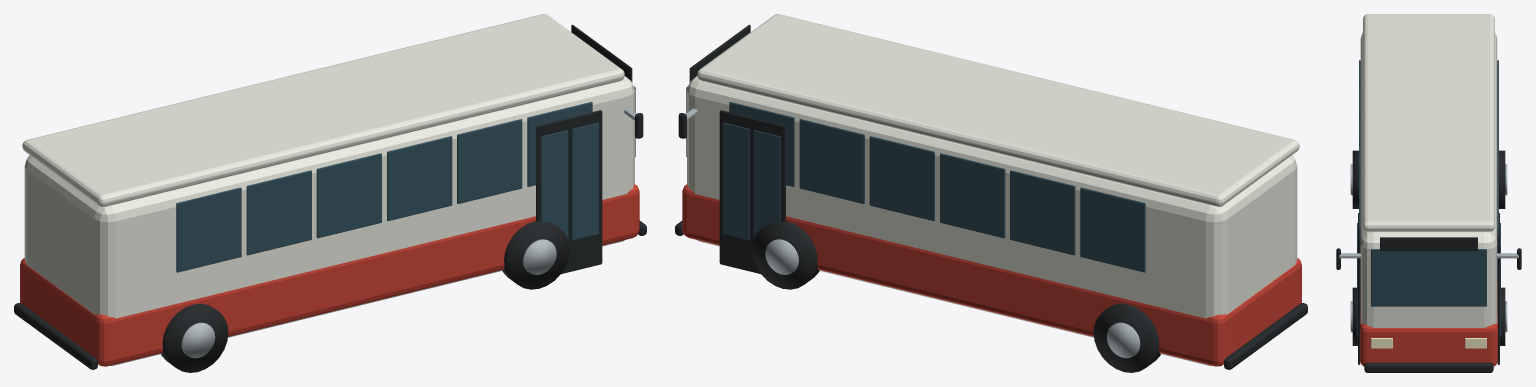
The model's file is bus_candidate.glb.
The picture shows the model from 3 angles, left to right: view 1: azimuth 30°, elevation 25°; view 2: azimuth 150°, elevation 25°; view 3: azimuth 270°, elevation 25°; orthographic projection. The views are drawn at different scales.
Visible parts, largest first — view 1: roof, bus_body, red_lower_body, window_0, window_2, window_3, window_1, window_4, door_frame, door_glass.001, wheel, wheel.001 (+6 smaller); view 2: roof, bus_body, red_lower_body, window_0.001, window_2.001, window_3.001, window_1.001, window_4.001, door_frame.001, door_glass.003, wheel.002, wheel.003 (+6 smaller); view 3: roof, bus_body, front_windshield, red_lower_body, bumper.001, destination_display, wheel, wheel.002, door_frame, door_frame.001, wheel.001, wheel.003 (+2 smaller).
Boxes of the visible parts, x1=… form: roof: x1=22, y1=14, x2=624, y2=206; bus_body: x1=24, y1=76, x2=634, y2=365; red_lower_body: x1=20, y1=184, x2=639, y2=366; window_0: x1=176, y1=187, x2=241, y2=272; window_2: x1=316, y1=153, x2=381, y2=238; window_3: x1=387, y1=136, x2=452, y2=220; window_1: x1=246, y1=170, x2=311, y2=255; window_4: x1=457, y1=119, x2=522, y2=203; door_frame: x1=536, y1=110, x2=602, y2=273; door_glass.001: x1=572, y1=122, x2=598, y2=240; wheel: x1=161, y1=303, x2=228, y2=372; wheel.001: x1=502, y1=221, x2=569, y2=289; roof: x1=697, y1=14, x2=1299, y2=206; bus_body: x1=687, y1=76, x2=1297, y2=365; red_lower_body: x1=682, y1=184, x2=1301, y2=366; window_0.001: x1=1080, y1=187, x2=1145, y2=272; window_2.001: x1=940, y1=153, x2=1005, y2=238; window_3.001: x1=869, y1=136, x2=934, y2=220; window_1.001: x1=1010, y1=170, x2=1075, y2=255; window_4.001: x1=799, y1=119, x2=864, y2=203; door_frame.001: x1=719, y1=110, x2=785, y2=273; door_glass.003: x1=723, y1=122, x2=749, y2=240; wheel.002: x1=1093, y1=303, x2=1160, y2=372; wheel.003: x1=752, y1=221, x2=819, y2=289; roof: x1=1363, y1=14, x2=1494, y2=231; bus_body: x1=1360, y1=32, x2=1497, y2=327; front_windshield: x1=1371, y1=249, x2=1486, y2=306; red_lower_body: x1=1360, y1=283, x2=1497, y2=366; bumper.001: x1=1364, y1=362, x2=1493, y2=372; destination_display: x1=1380, y1=237, x2=1477, y2=250; wheel: x1=1352, y1=150, x2=1358, y2=208; wheel.002: x1=1499, y1=150, x2=1505, y2=208; door_frame: x1=1358, y1=213, x2=1360, y2=364; door_frame.001: x1=1497, y1=213, x2=1499, y2=364; wheel.001: x1=1352, y1=287, x2=1357, y2=345; wheel.003: x1=1500, y1=287, x2=1505, y2=345.
Size of the model in its own units: 8.89 by 2.92 by 3.12.
